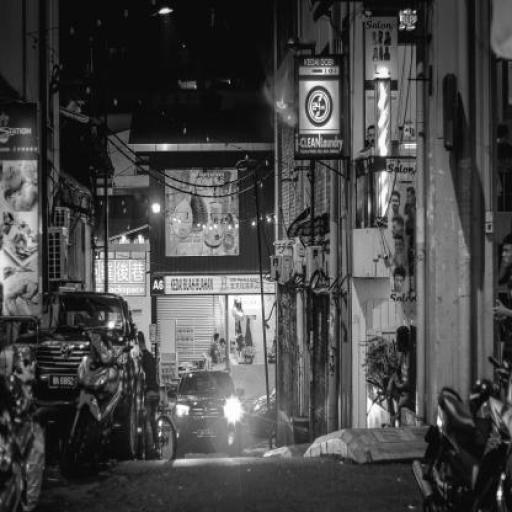street light: (104, 7, 174, 328), (236, 159, 274, 450)
